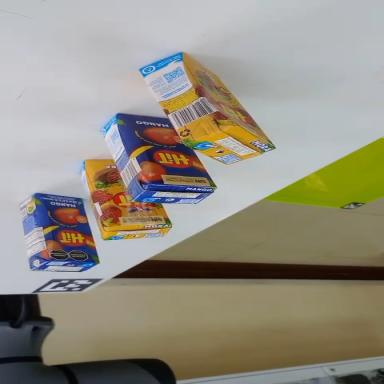HIT-MANGO: (91, 90, 218, 230), (20, 186, 100, 278)
HIT-MORA: (130, 34, 275, 191), (54, 147, 178, 268)
cara_F: (108, 90, 217, 217), (181, 45, 274, 156), (86, 154, 172, 228), (32, 182, 100, 275)
